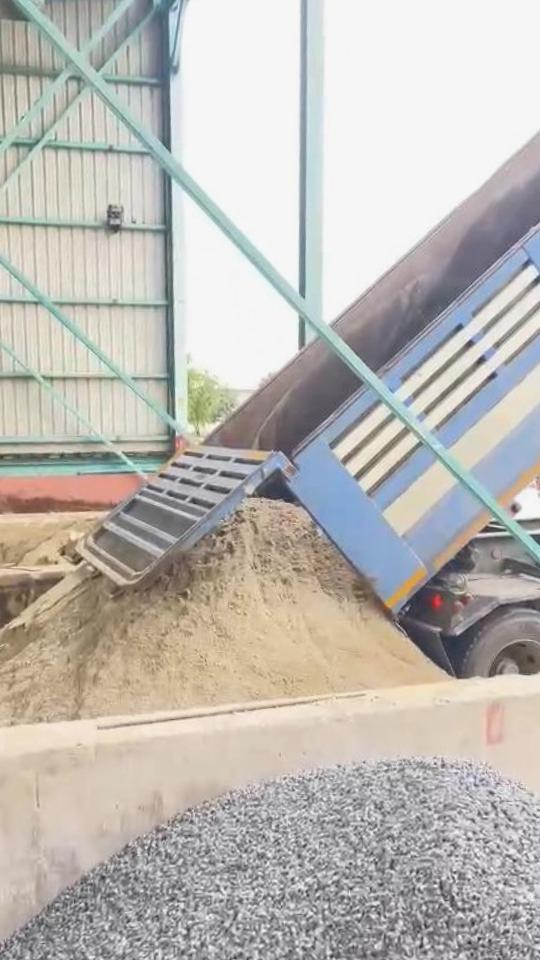gravel: (0, 760, 540, 960)
sand: (0, 501, 443, 736), (20, 519, 99, 566)
